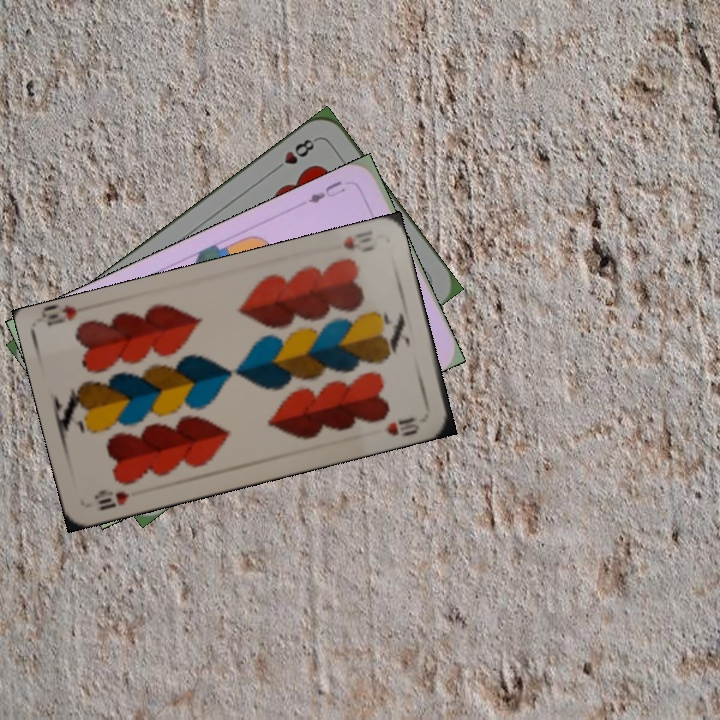EU: (303, 176, 348, 206)
H10: (90, 485, 133, 513), (339, 226, 378, 255)
H8: (269, 134, 320, 175)
